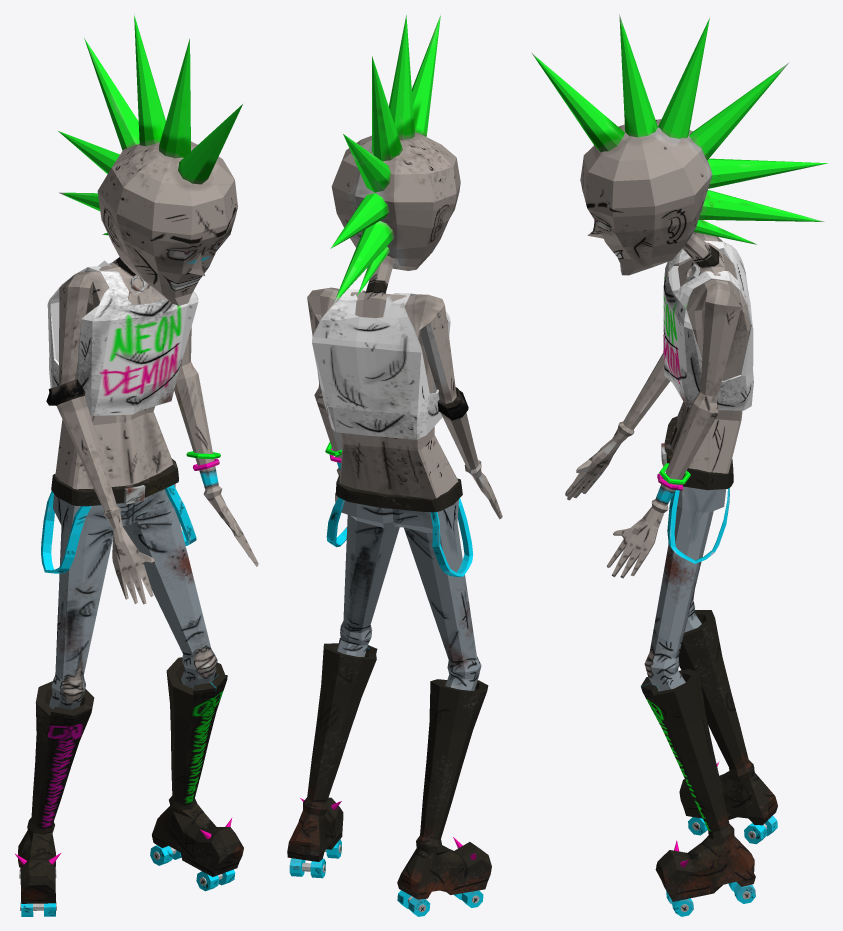
File: punkAnimation_000048.obj
3 views of the same model, side by side, from view 1: azimuth 30°, elevation 25°; view 2: azimuth 150°, elevation 25°; view 3: azimuth 270°, elevation 25° (orthographic). The views are drawn at different scales.
Parts seen in each view (by area): view 1: Cube.004_Cube.003; view 2: Cube.004_Cube.003; view 3: Cube.004_Cube.003.
Part boxes in pixels (box(x1,y1,x2,y2)): Cube.004_Cube.003: box(15, 14, 258, 916); Cube.004_Cube.003: box(287, 14, 502, 916); Cube.004_Cube.003: box(532, 14, 827, 916).
Size of the model in its own units: 1.83 by 7.46 by 2.32.
